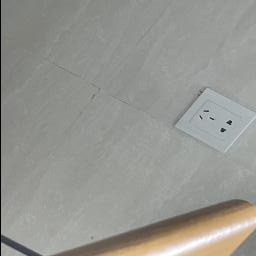outlet: (171, 87, 256, 158)
